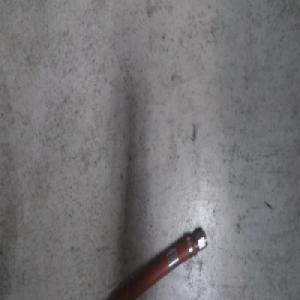Hose: (83, 224, 209, 300)
